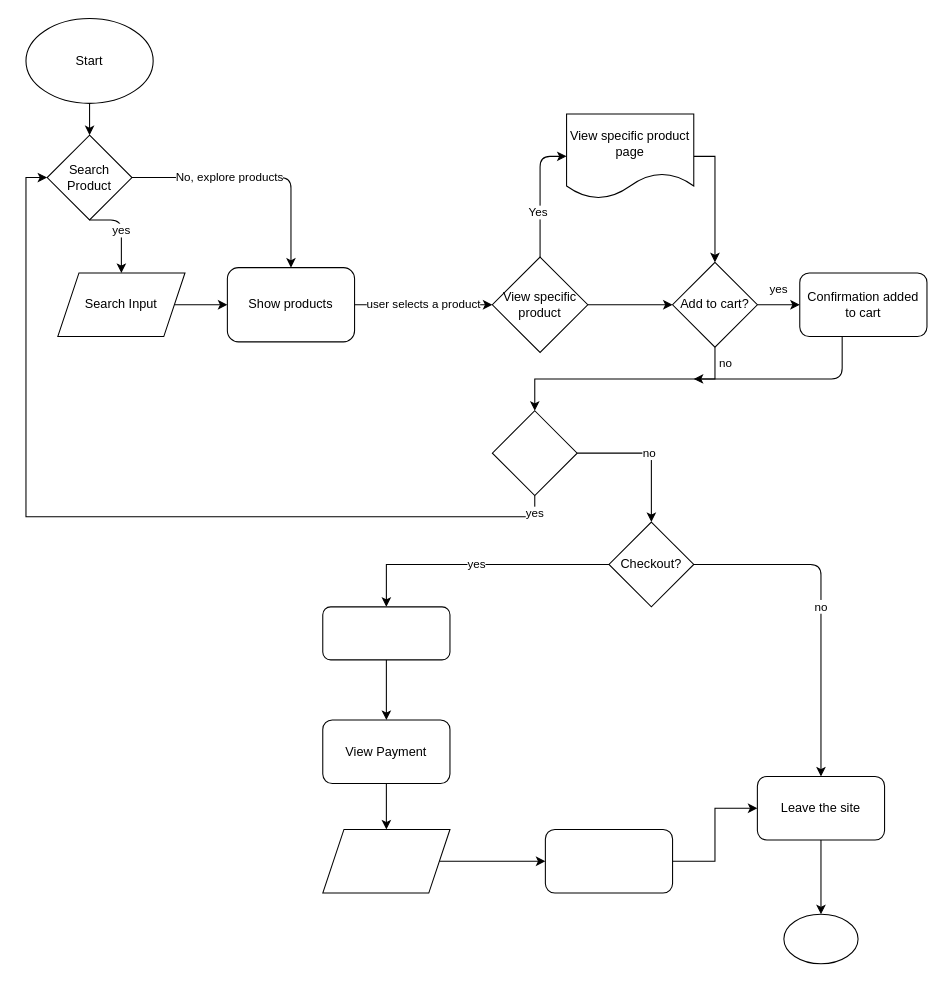
Some shapes in this 946 by 983 pixel diagram are drawn without their labels. The shapes that lost their labels are listed below. From the top down, each one's centre as x and y in pixels, then its label:
the point at 534,453: Continue shopping?
the point at 386,633: View Cart
the point at 386,860: Payment Information
the point at 608,860: Order confirmation and email
the point at 820,938: End
